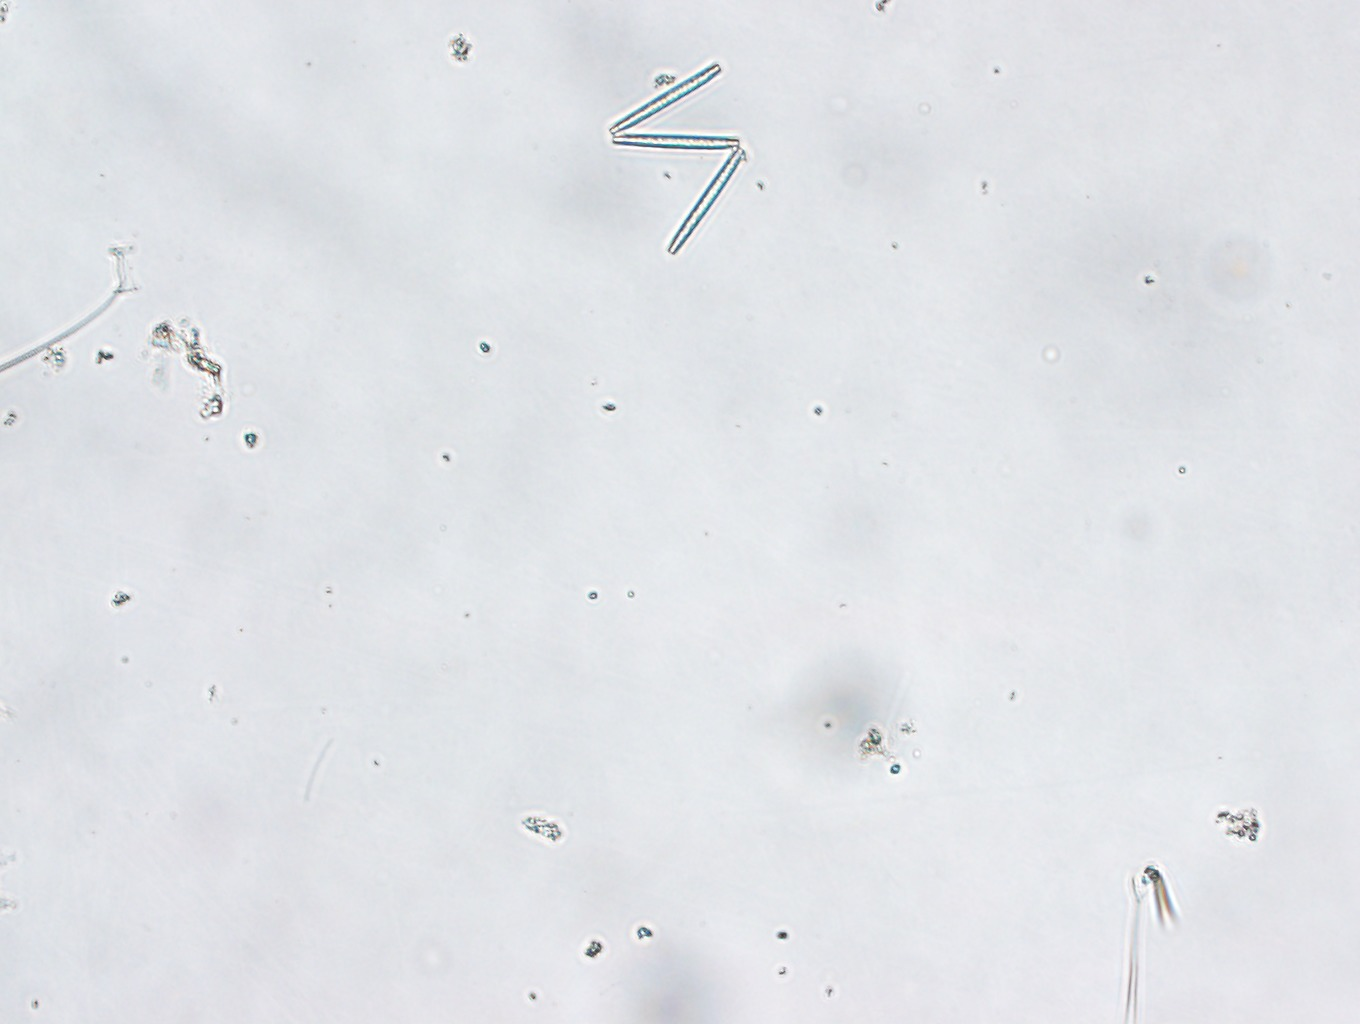thalassionema nitzschioides: (600, 51, 746, 258)
